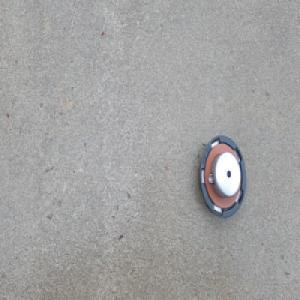FuelCap: (196, 132, 247, 220)
